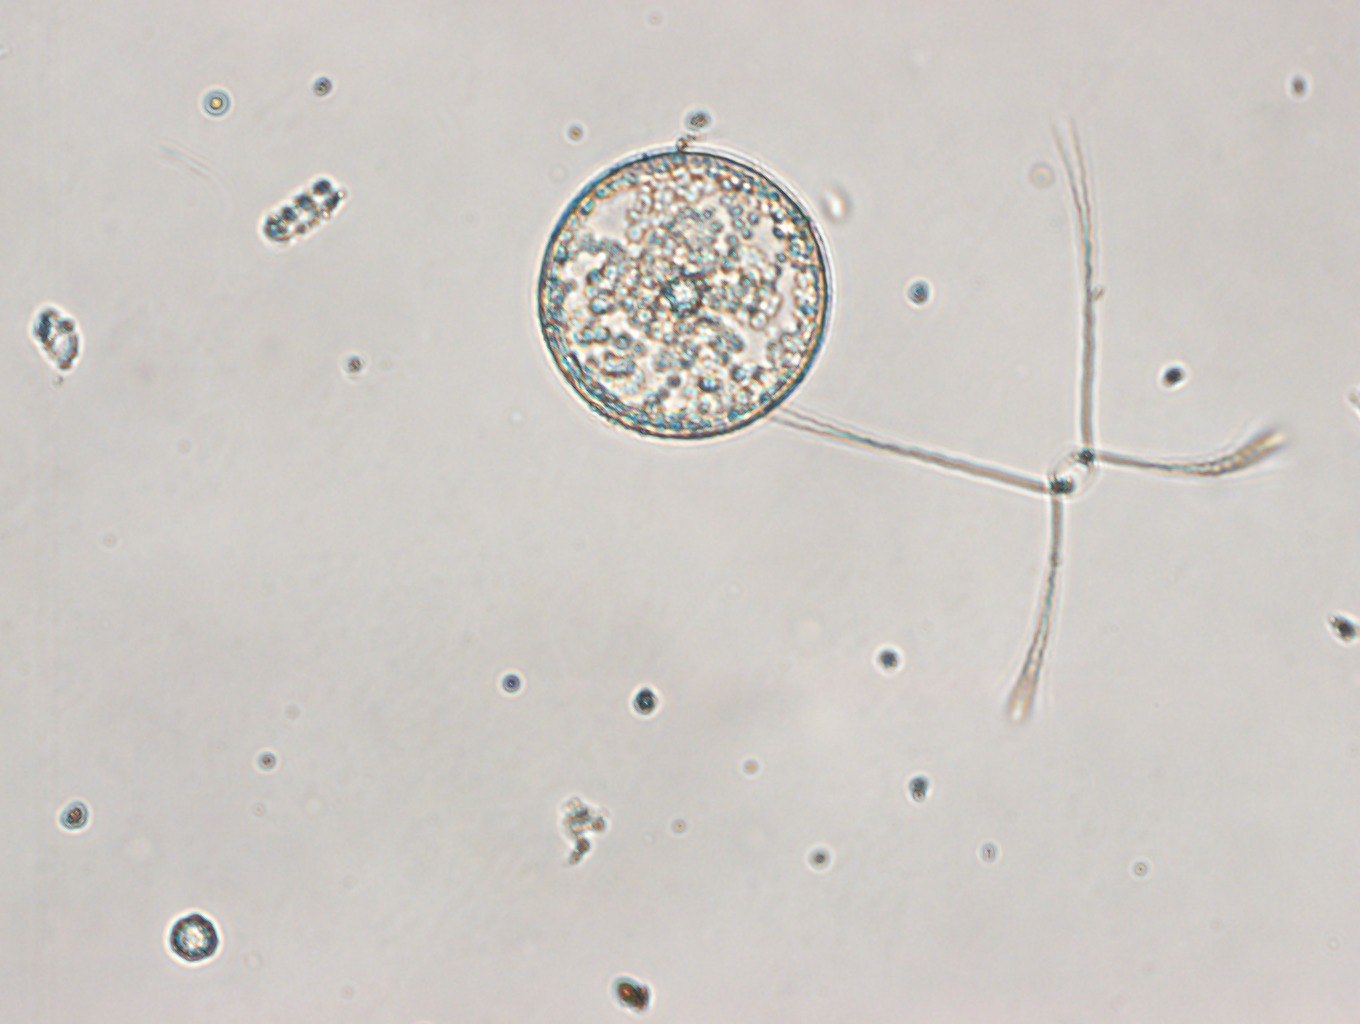chaetoceros: (799, 139, 1291, 734)
coscinodiscus: (531, 142, 840, 445)
